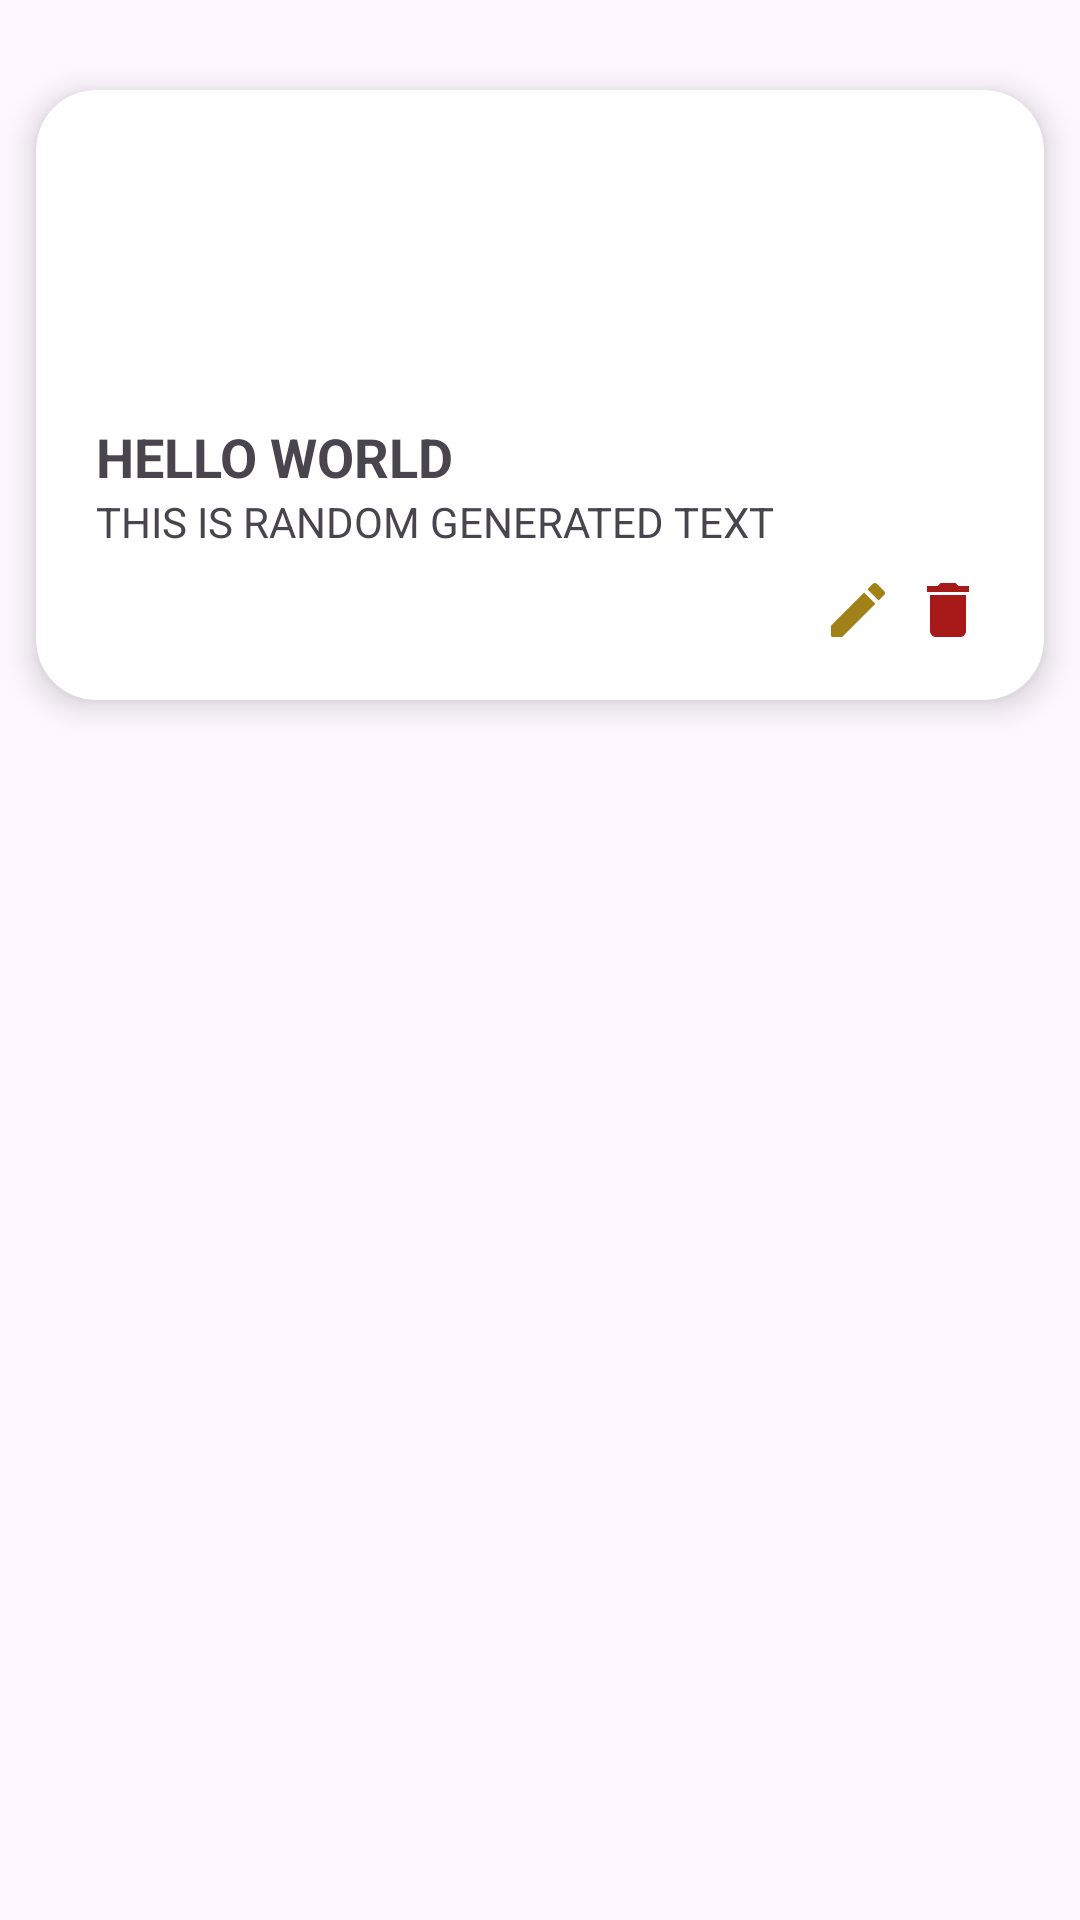

Locate icon controls on the screen. Image size 1080px×1920px, boxes as (x1, y1, x2, y2).
delete: (927, 583, 969, 637)
edit: (831, 583, 885, 637)
